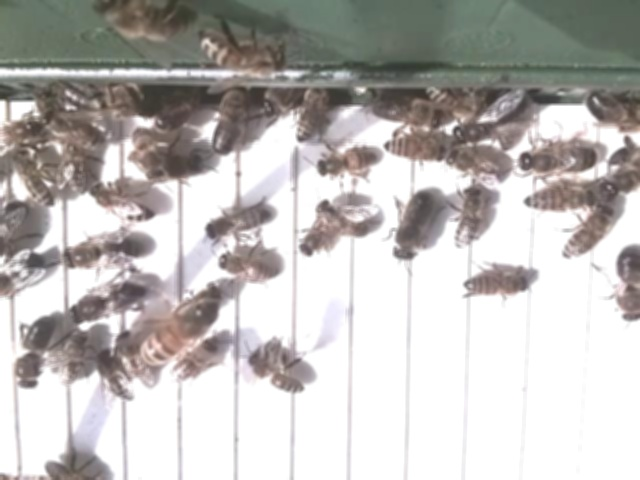Drone: (66, 279, 145, 327), (390, 189, 435, 267), (518, 137, 598, 178), (13, 315, 55, 393), (60, 233, 140, 272), (612, 244, 640, 328)
Worker: (559, 209, 620, 262), (86, 182, 156, 225), (202, 202, 273, 244), (246, 347, 304, 397), (10, 149, 55, 210), (444, 147, 509, 189), (168, 336, 218, 389), (91, 348, 136, 406), (312, 198, 370, 241), (520, 183, 594, 216), (214, 249, 278, 287), (310, 146, 378, 180), (452, 184, 485, 253), (461, 268, 527, 302), (380, 133, 445, 164)
